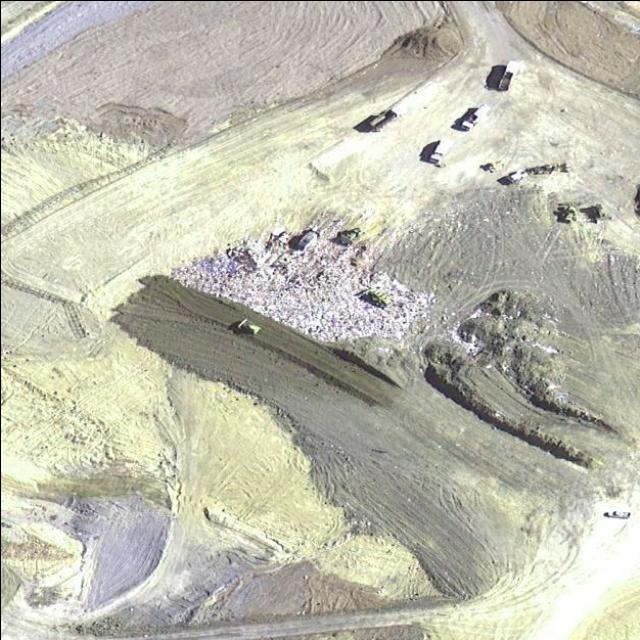dump_site: (169, 202, 453, 373)
